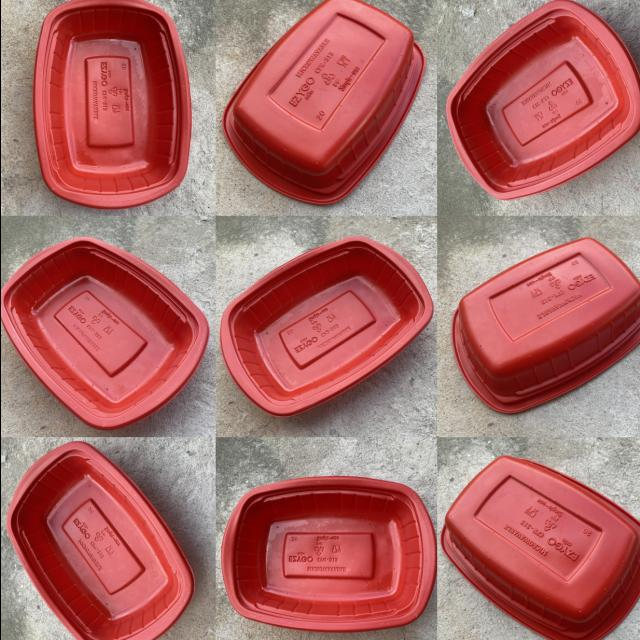plastik: (222, 0, 423, 205), (0, 237, 207, 430), (446, 0, 640, 199), (220, 237, 432, 416), (6, 441, 193, 640), (440, 456, 640, 640), (220, 477, 434, 631), (451, 238, 640, 412), (32, 0, 190, 208)
